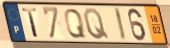6: (127, 7, 148, 43)
7: (42, 6, 60, 41)
I: (113, 7, 128, 42)
Q: (82, 7, 111, 41), (63, 8, 88, 40)
T: (21, 7, 40, 39)
